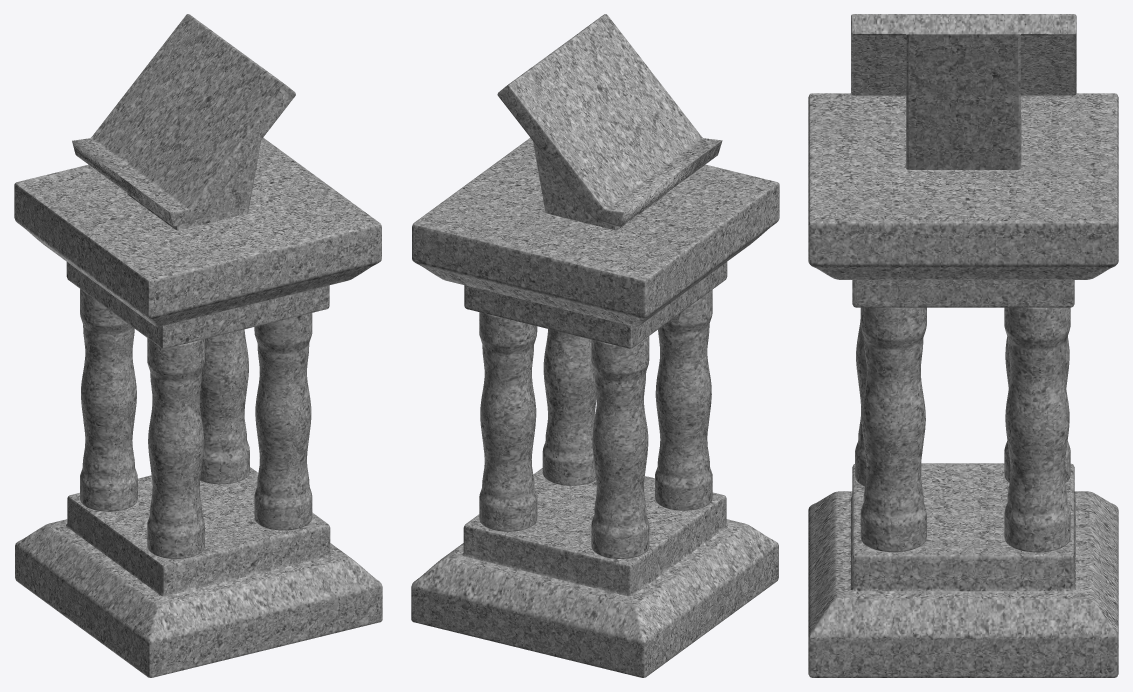
File: lectern.fbx
The picture shows the model from 3 angles, left to right: view 1: azimuth 30°, elevation 25°; view 2: azimuth 150°, elevation 25°; view 3: azimuth 270°, elevation 25°; orthographic projection. The views are drawn at different scales.
Visible parts, largest first — view 1: polySurface5, polySurface2; view 2: polySurface5, polySurface2; view 3: polySurface5, polySurface2.
Part boxes in pixels (box(x1,y1,x2,y2)): polySurface5: box(14, 14, 382, 677); polySurface2: box(80, 289, 312, 558); polySurface5: box(411, 14, 779, 677); polySurface2: box(479, 290, 712, 558); polySurface5: box(808, 14, 1118, 677); polySurface2: box(855, 307, 1070, 552).
Size of the model in its own units: 0.6891 by 1.52 by 0.6868.
